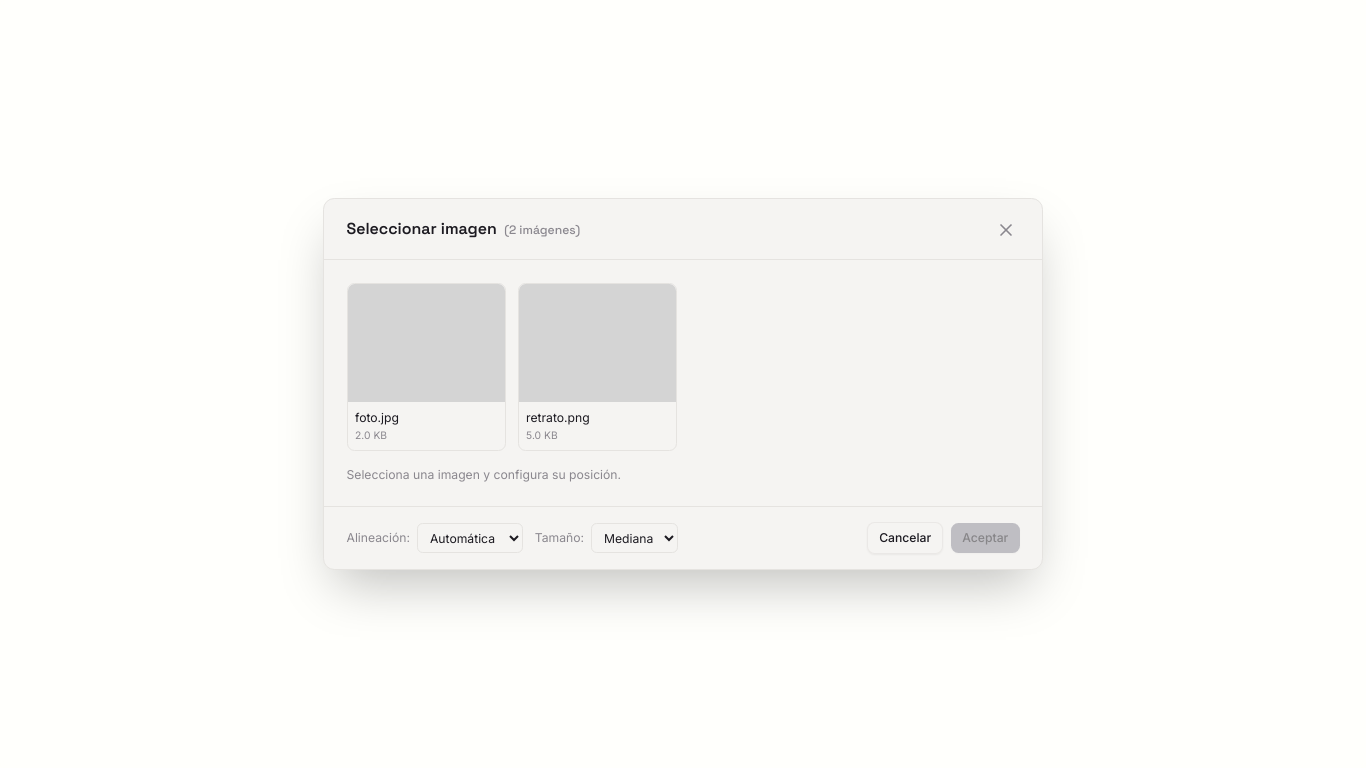
Test: ImagePicker › cancelar closes the dialog without deleting anything
Click the button "foto.jpg 2.0 KB" at [426, 367], box [346,282,506,451]
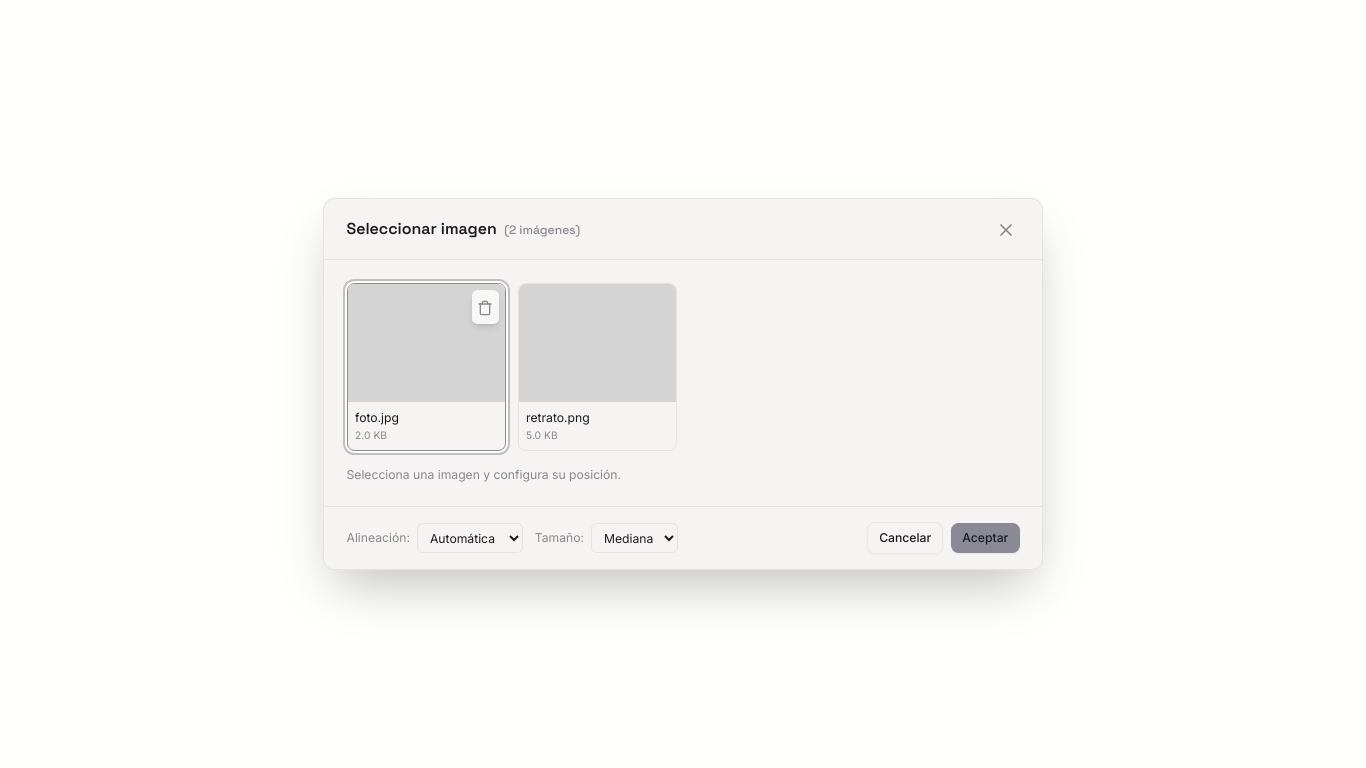
Click the button named "Eliminar foto.jpg" at [485, 307], box [472,290,499,324]
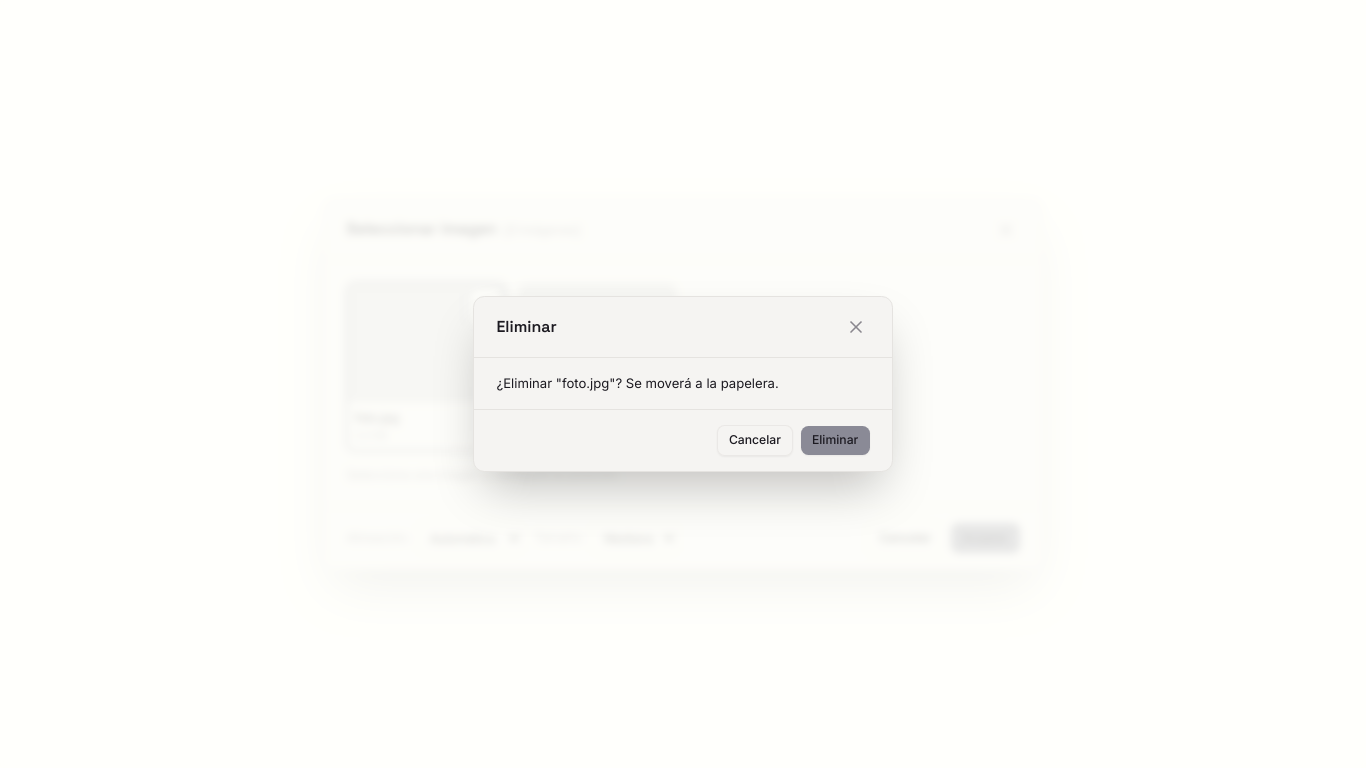
Expected: the dialog "Eliminar" is shown, [473,296,893,472]
Click the button "Cancelar" at [755, 440], box [717,425,793,456]
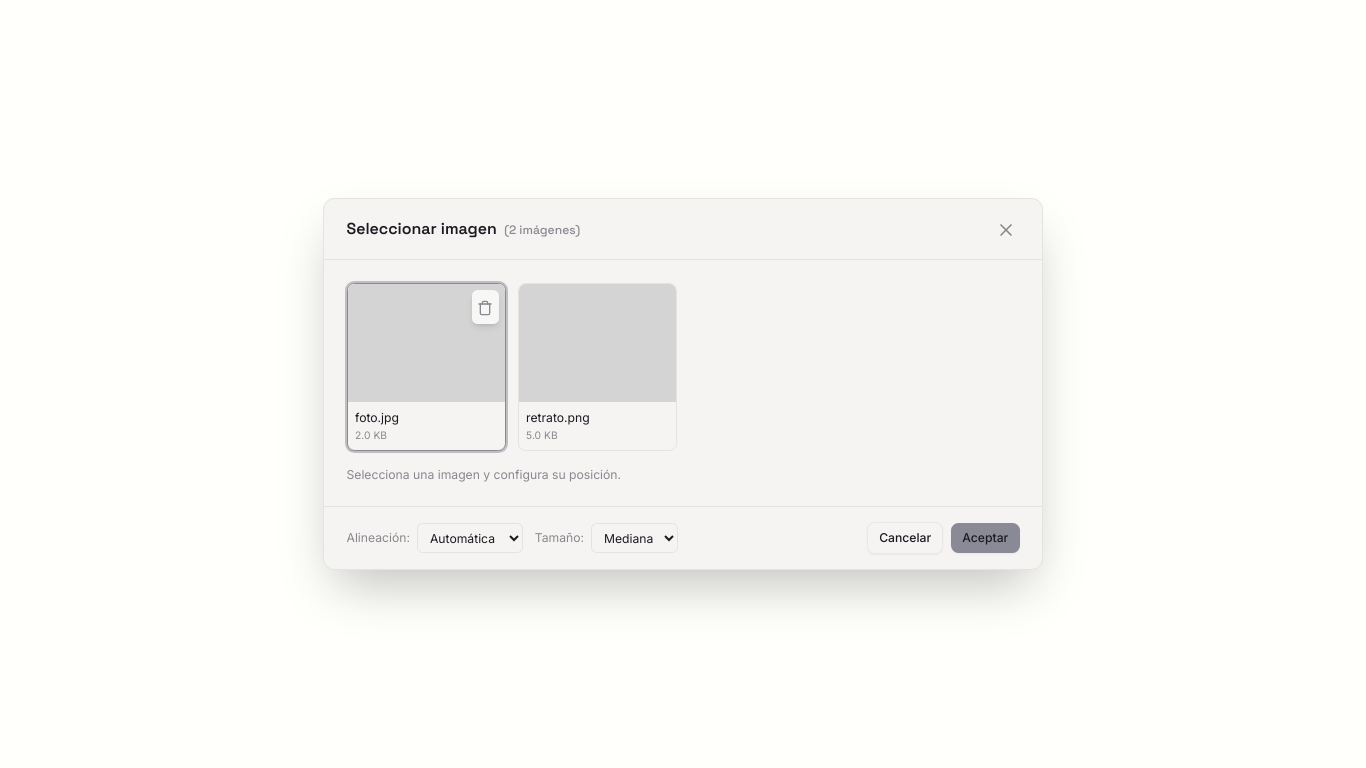
Expected: the text "foto.jpg" is shown, [355,409,399,428]
Expected: the button named "Eliminar foto.jpg" is shown, [472,290,499,324]
Expected: the heading "Eliminar" is gone
